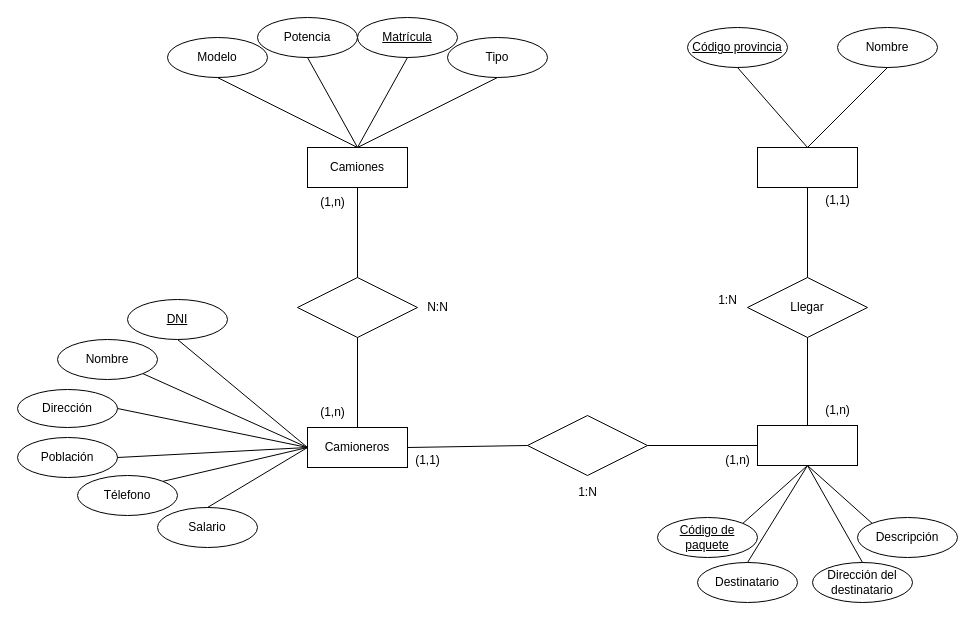
This 975x620 diagram has some shape labels left out. Here are the shapes that lost their labels. From the top down, the centre of each, then its label:
At point (807, 167): "Provincia".
At point (357, 307): "Conducir".
At point (587, 445): "Distribuir".
At point (807, 445): "Paquete".
